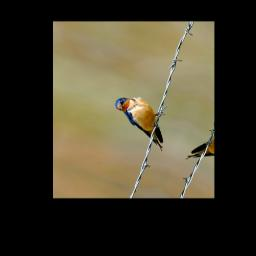Swallow: (103, 89, 180, 151)
